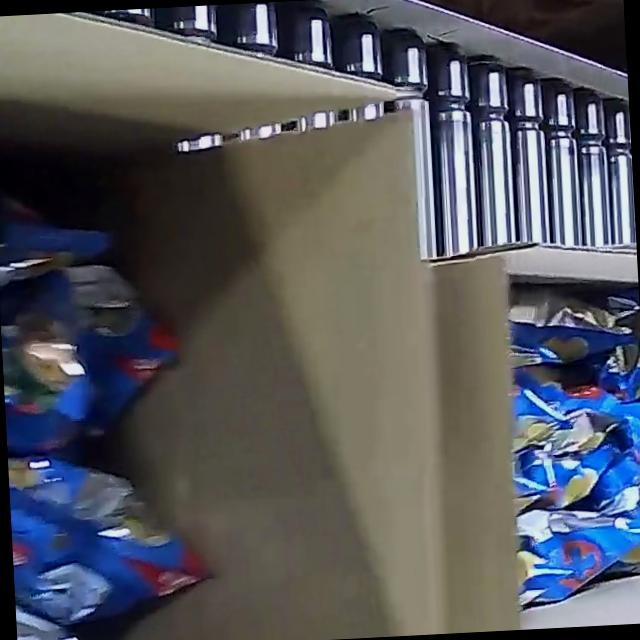paprika: (0, 120, 217, 640), (502, 291, 640, 611)
